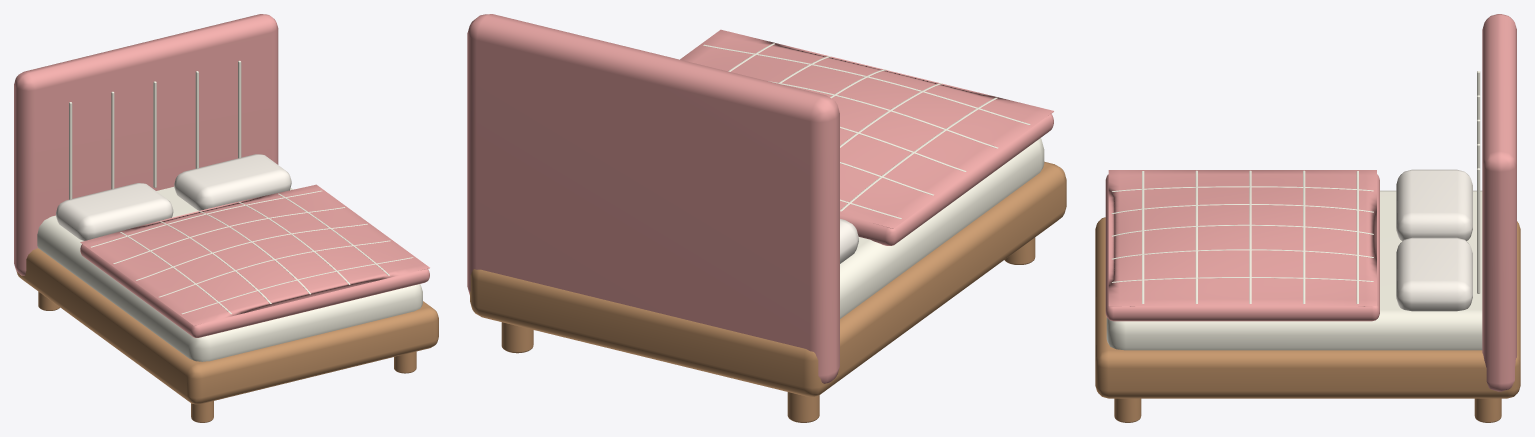
Rendered from bedroomBedRose.glb.
3 renders of one model, left to right at view 1: azimuth 30°, elevation 25°; view 2: azimuth 150°, elevation 25°; view 3: azimuth 270°, elevation 25°, orthographic. The views are drawn at different scales.
Parts seen in each view (by area): view 1: Upholstered headboard, Soft quilt cloth, Oak bed frame, Mattress, Quilt padded hem, Bed pillow, Bed pillow.001, Oak bed leg, Oak bed leg.002, Headboard channel.002; view 2: Upholstered headboard, Oak bed frame, Soft quilt cloth, Mattress, Quilt padded hem, Oak bed leg.001, Oak bed leg.003, Quilt stitching.005, Bed pillow; view 3: Soft quilt cloth, Oak bed frame, Mattress, Upholstered headboard, Bed pillow.001, Quilt padded hem, Bed pillow, Oak bed leg.002, Oak bed leg.003, Headboard channel.004, Quilt stitching.003, Quilt stitching (+5 smaller).
Part boxes in pixels (box(x1,y1,x2,y2)): Upholstered headboard: box(14, 14, 278, 275); Soft quilt cloth: box(80, 184, 429, 325); Oak bed frame: box(16, 248, 438, 404); Mattress: box(37, 187, 422, 361); Quilt padded hem: box(80, 244, 429, 337); Bed pillow: box(56, 183, 173, 240); Bed pillow.001: box(174, 154, 291, 210); Oak bed leg: box(191, 401, 213, 422); Oak bed leg.002: box(394, 351, 416, 373); Headboard channel.002: box(153, 81, 156, 187); Upholstered headboard: box(467, 14, 839, 383); Oak bed frame: box(470, 161, 1066, 396); Soft quilt cloth: box(680, 29, 1053, 228); Mattress: box(840, 138, 1044, 318); Quilt padded hem: box(840, 114, 1053, 245); Oak bed leg.001: box(787, 392, 819, 422); Oak bed leg.003: box(501, 322, 533, 353); Quilt stitching.005: box(703, 44, 1030, 124); Bed pillow: box(840, 219, 858, 263); Soft quilt cloth: box(1108, 170, 1376, 306); Oak bed frame: box(1095, 217, 1520, 398); Mattress: box(1106, 190, 1482, 350); Upholstered headboard: box(1482, 14, 1516, 391); Bed pillow.001: box(1396, 237, 1472, 311); Quilt padded hem: box(1105, 174, 1379, 321); Bed pillow: box(1396, 169, 1472, 240); Oak bed leg.002: box(1114, 398, 1141, 422); Oak bed leg.003: box(1474, 398, 1501, 422); Headboard channel.004: box(1477, 168, 1480, 293); Quilt stitching.003: box(1112, 249, 1373, 259); Quilt stitching: box(1112, 186, 1373, 191).
Size of the model in its own units: 1.84 by 1.59 by 2.22.
